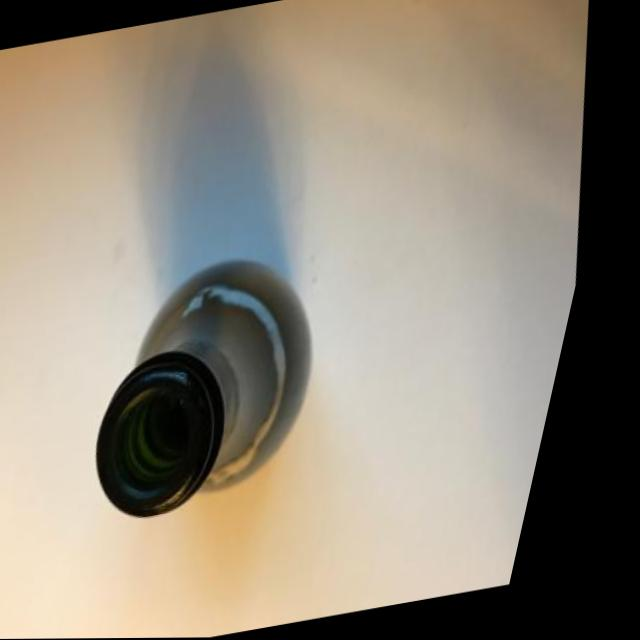glass: (27, 182, 402, 579)
